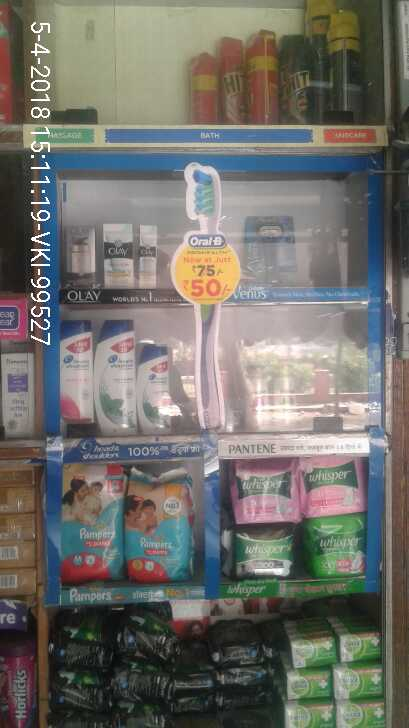venus: (242, 219, 298, 285)
